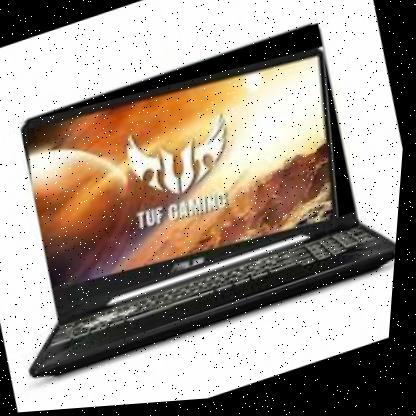Normal: (9, 24, 371, 316)
